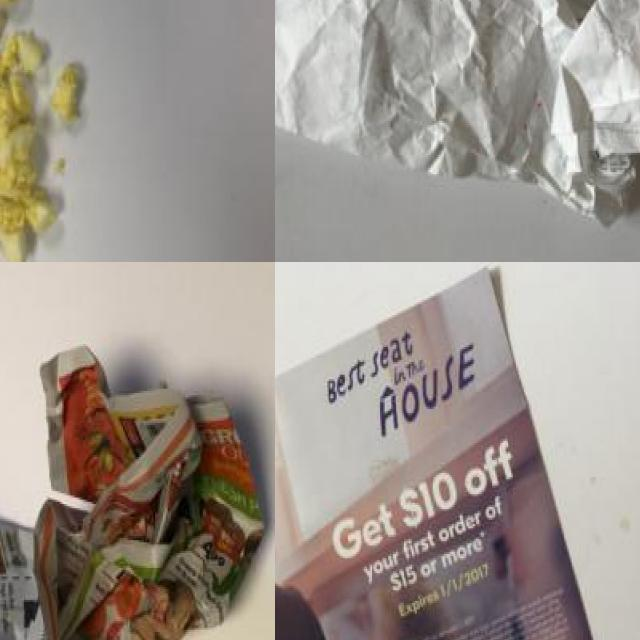compost: (0, 0, 105, 262)
paper: (275, 277, 600, 640), (0, 337, 275, 640), (275, 0, 640, 219)
